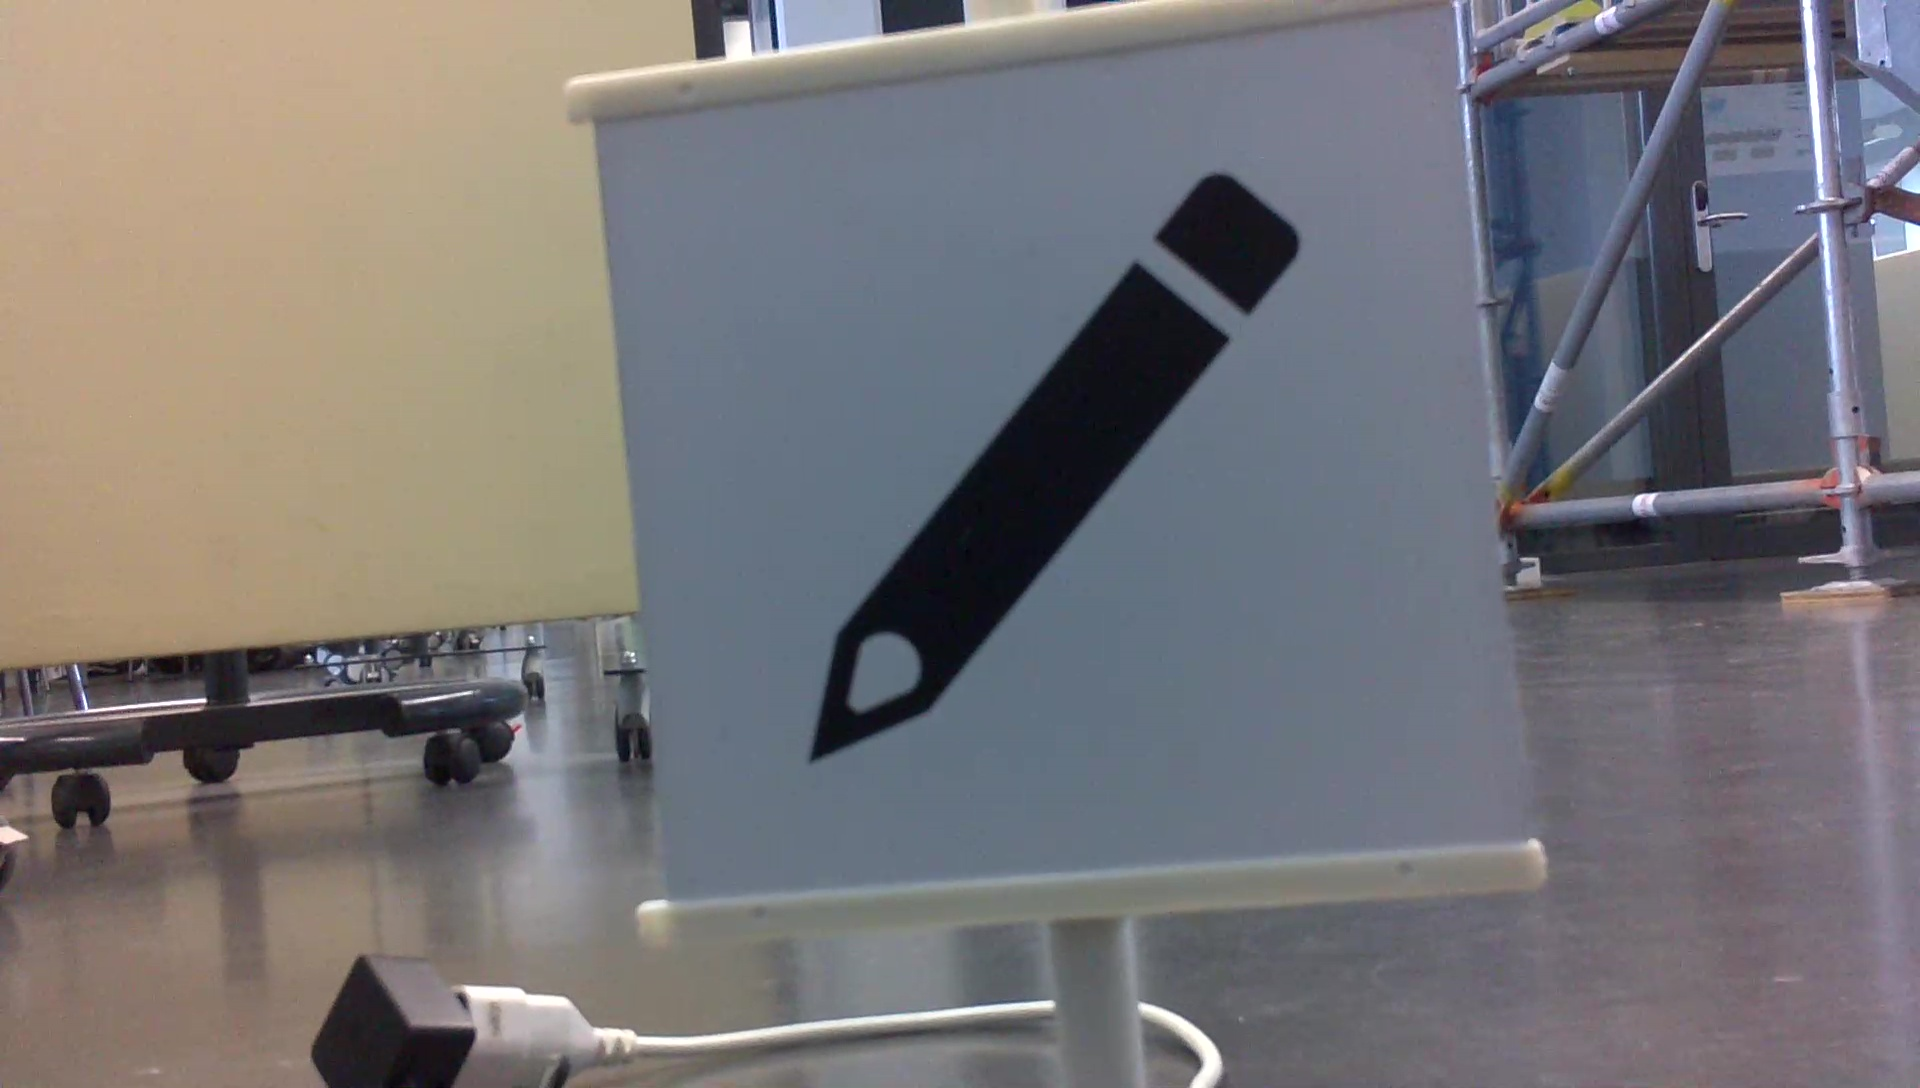pencil: (789, 158, 1323, 778)
